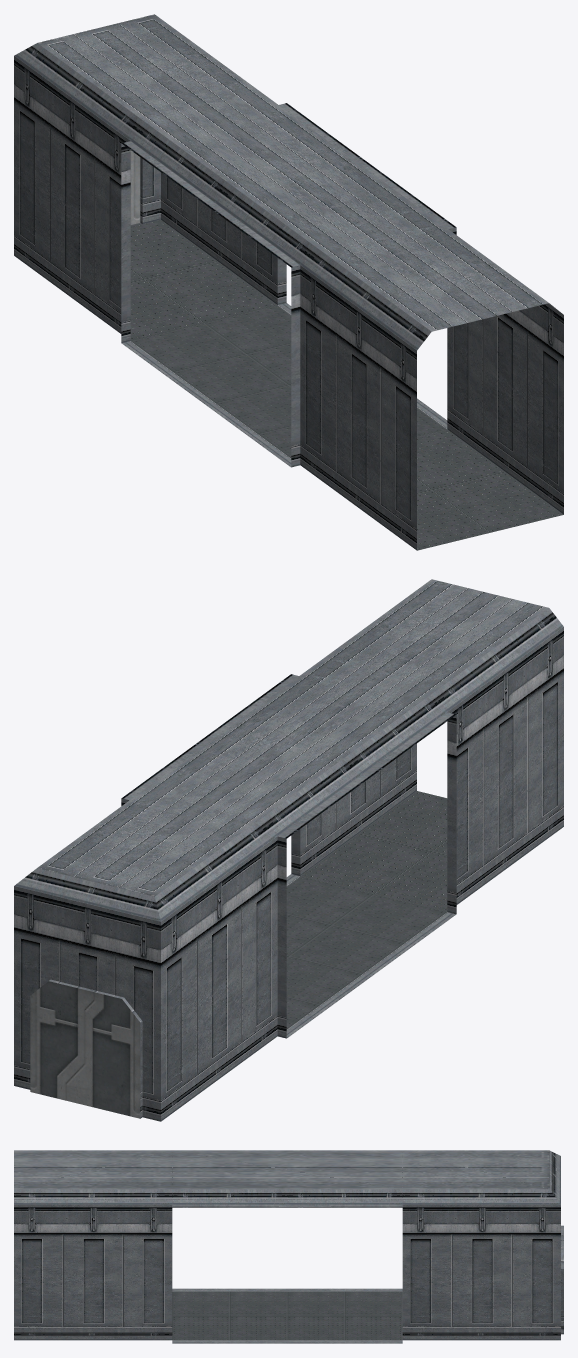
The model's file is thm_nboo_thed_emp_retreat_r21_hall8_mesh_r21.fbx.
The picture shows the model from 3 angles, top to bottom: view 1: azimuth 30°, elevation 25°; view 2: azimuth 150°, elevation 25°; view 3: azimuth 270°, elevation 25°; orthographic projection. The views are drawn at different scales.
Parts seen in each view (by area): view 1: mesh_node; view 2: mesh_node; view 3: mesh_node.
Boxes of the visible parts, left/top/right/bottom form: mesh_node: left=14, top=14, right=563, bottom=550; mesh_node: left=14, top=579, right=563, bottom=1121; mesh_node: left=14, top=1150, right=563, bottom=1343.
Bounding box in the file's own units: 4.5 × 5.6 × 19.1.
